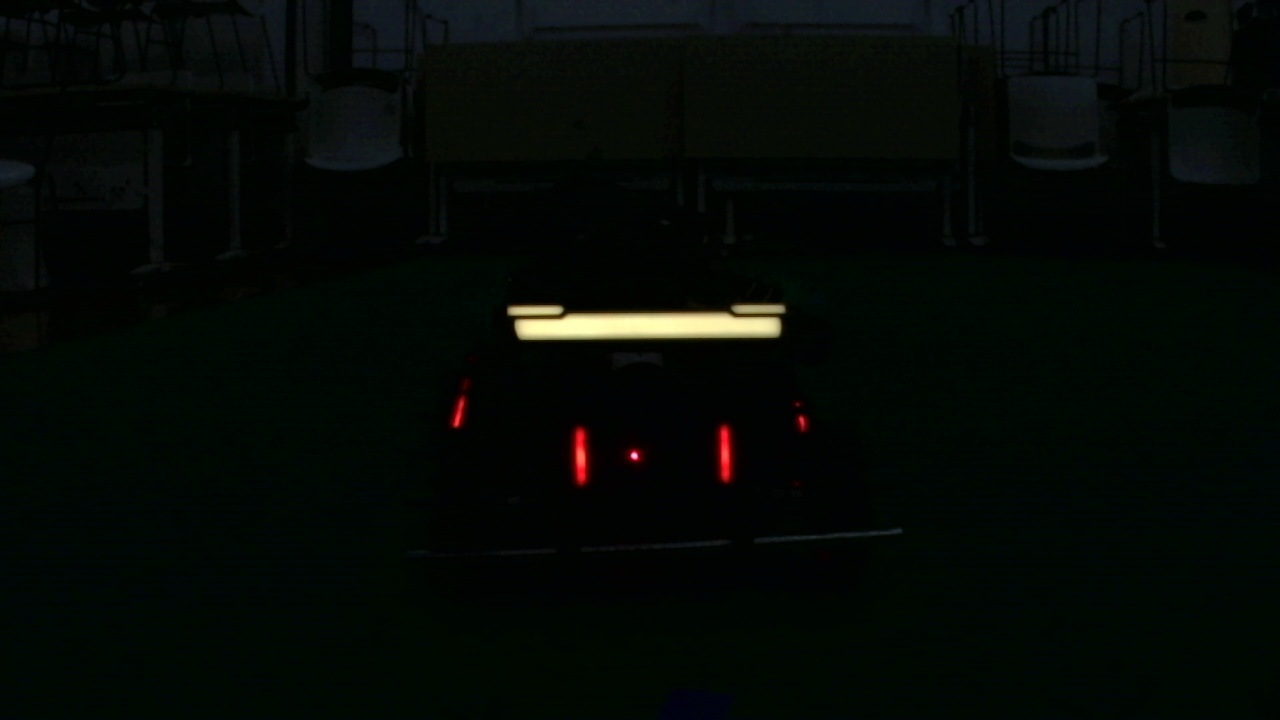lamp: (710, 415, 735, 484), (569, 416, 589, 485)
pair1: (571, 418, 734, 488)
